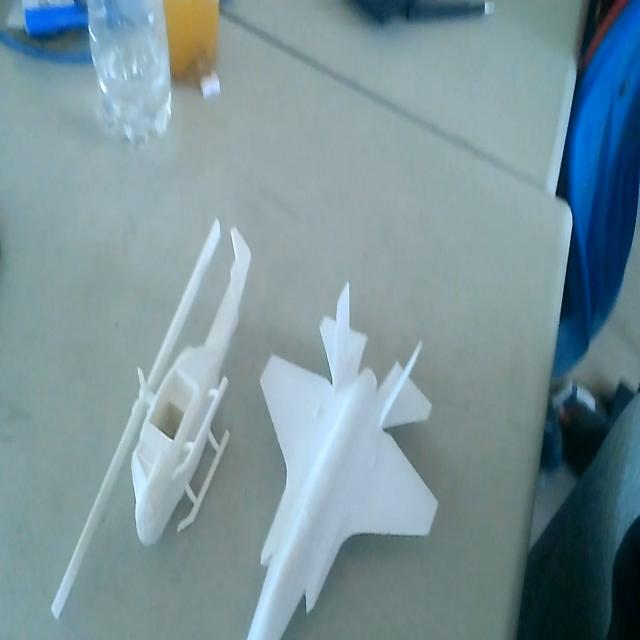Helicopter: (52, 208, 250, 640)
Jet: (246, 273, 437, 640)
